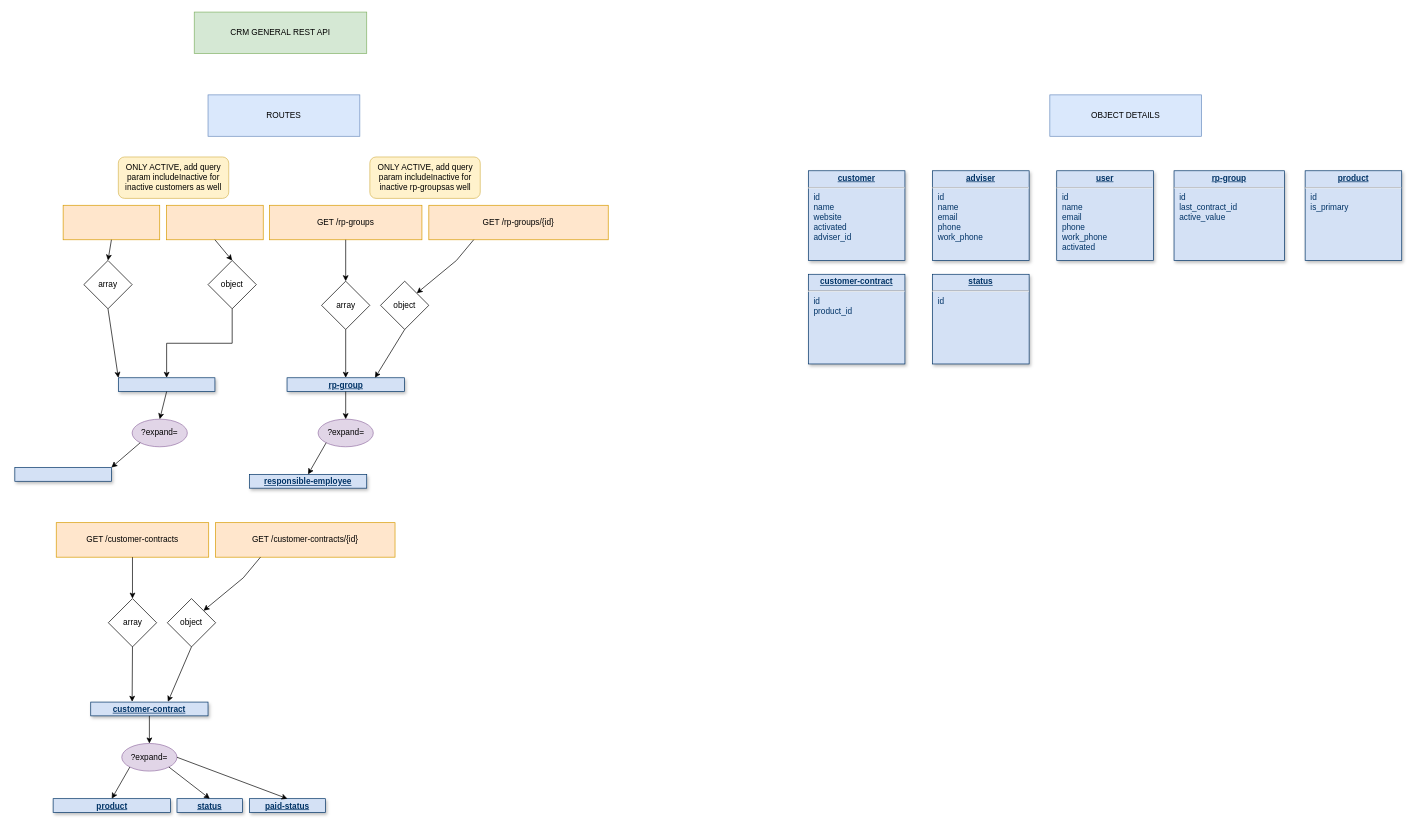
This 1418x829 diagram has some shape labels left out. The shapes that lost their labels are listed below. From the top down, each one's centre as x and y in pixels, then its label:
At (x=111, y=222): "GET /customers".
At (x=214, y=222): "GET /customers/{id}".
At (x=167, y=385): "customer".
At (x=63, y=475): "adviser".
